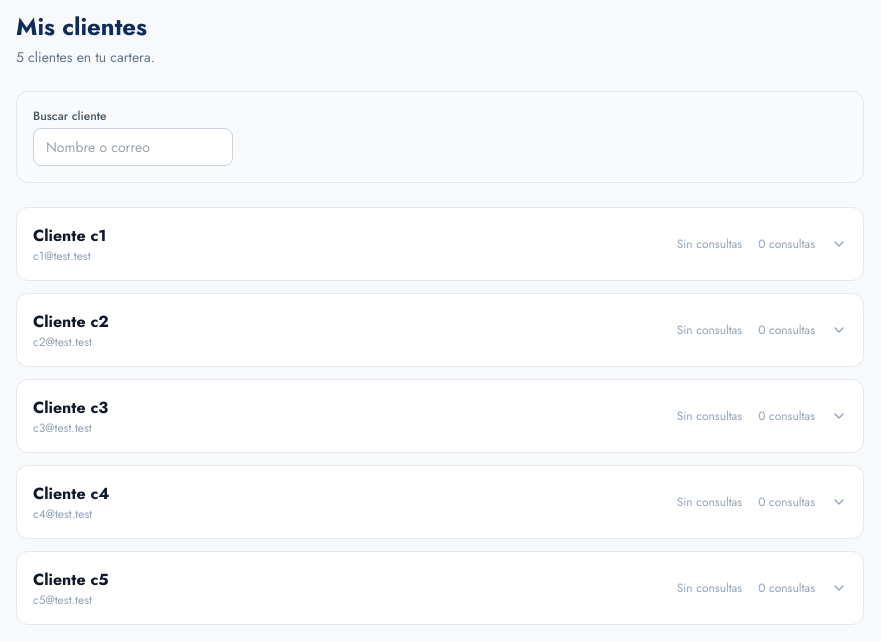
GestorPanel › filtra por nombre cuando la cartera supera los 4 clientes
The image size is (881, 642).
Expected: the text "Cliente c1" is shown, [33,224,106,247]
Type "c3" into the search field labelled "Buscar cliente". click: point(133, 147)
box: [33,128,233,166]
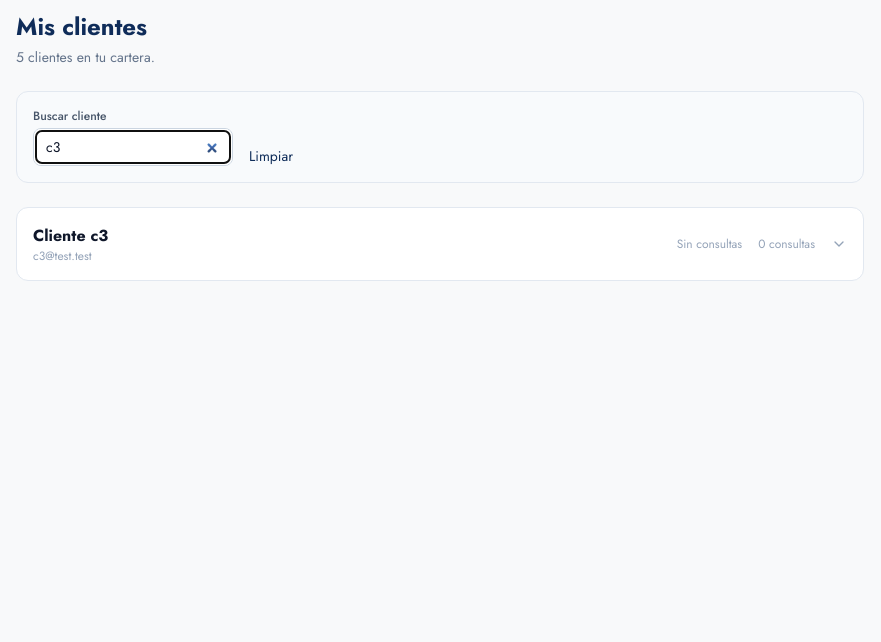
Expected: the text "Cliente c3" is shown, [33,224,108,247]
Expected: the button "Cliente c1" is gone
